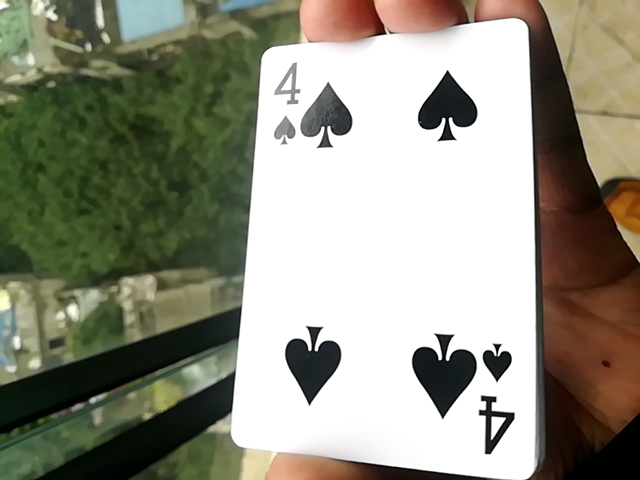ht 4: (222, 9, 534, 480)
